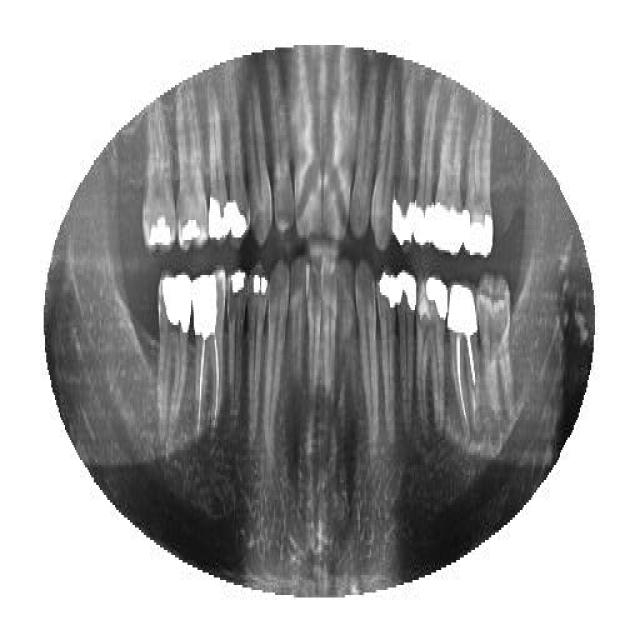Fillings: (171, 92, 209, 252), (156, 267, 192, 435), (462, 110, 497, 265), (142, 105, 178, 255), (435, 90, 465, 258), (415, 75, 443, 250), (419, 273, 449, 435), (248, 257, 270, 445), (392, 85, 417, 247), (226, 268, 249, 422), (378, 267, 398, 435), (206, 77, 226, 245), (228, 88, 248, 240), (397, 270, 415, 435)
Implant: (190, 265, 226, 440), (446, 282, 482, 430)
